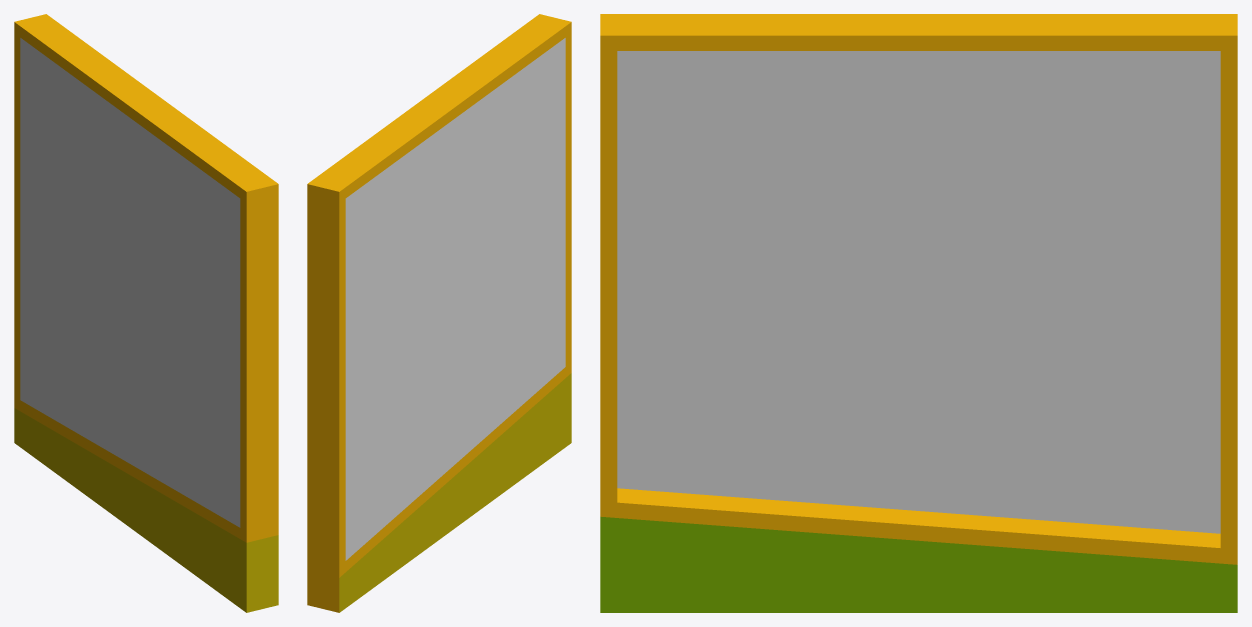
The model's file is window_side_2.dae.
3 renders of one model, left to right at view 1: azimuth 30°, elevation 25°; view 2: azimuth 150°, elevation 25°; view 3: azimuth 270°, elevation 25°, orthographic. The views are drawn at different scales.
Parts seen in each view (by area): view 1: Cube; view 2: Cube; view 3: Cube.
Boxes of the visible parts, box(x1,y1,x2,y2) form: Cube: box(14, 14, 278, 612); Cube: box(307, 14, 571, 612); Cube: box(600, 14, 1237, 612).
Bounding box in the file's own units: 0.06 × 0.75 × 0.75.
